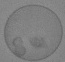small: (29, 36, 42, 47), (13, 46, 25, 56), (12, 38, 22, 45)
